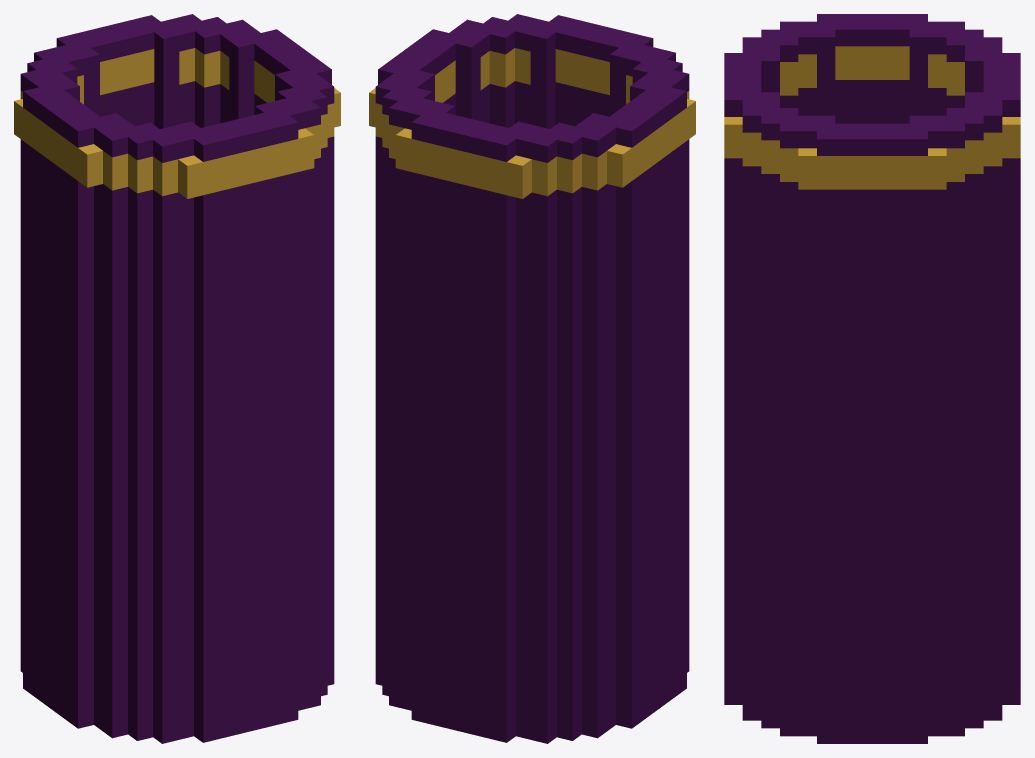
File: cloth_epic_leg_L.glb
The picture shows the model from 3 angles, left to right: view 1: azimuth 30°, elevation 25°; view 2: azimuth 150°, elevation 25°; view 3: azimuth 270°, elevation 25°; orthographic projection.
Visible parts, largest first — view 1: cloth_epic_leg_L; view 2: cloth_epic_leg_L; view 3: cloth_epic_leg_L.
Boxes of the visible parts, box(x1,y1,x2,y2) form: cloth_epic_leg_L: box(14, 14, 340, 743); cloth_epic_leg_L: box(369, 14, 695, 743); cloth_epic_leg_L: box(724, 14, 1020, 743).
Bounding box in the file's own units: 0.192 × 0.432 × 0.192.
